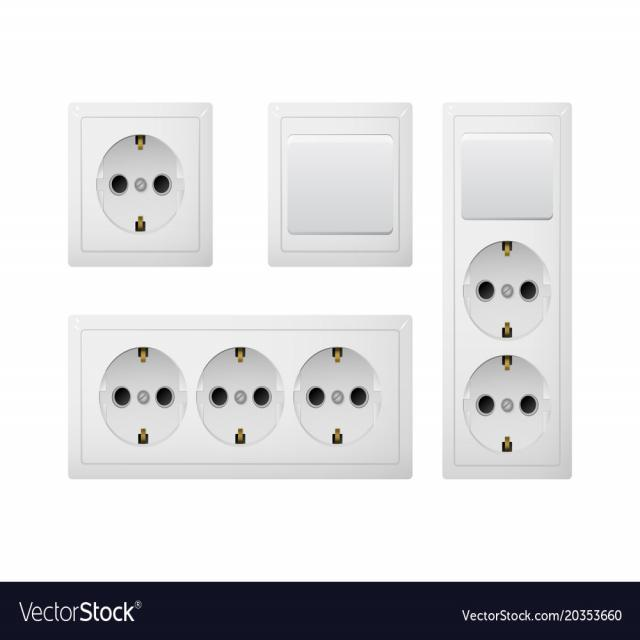typeb: (59, 312, 421, 478), (438, 96, 575, 485), (52, 96, 226, 280)
